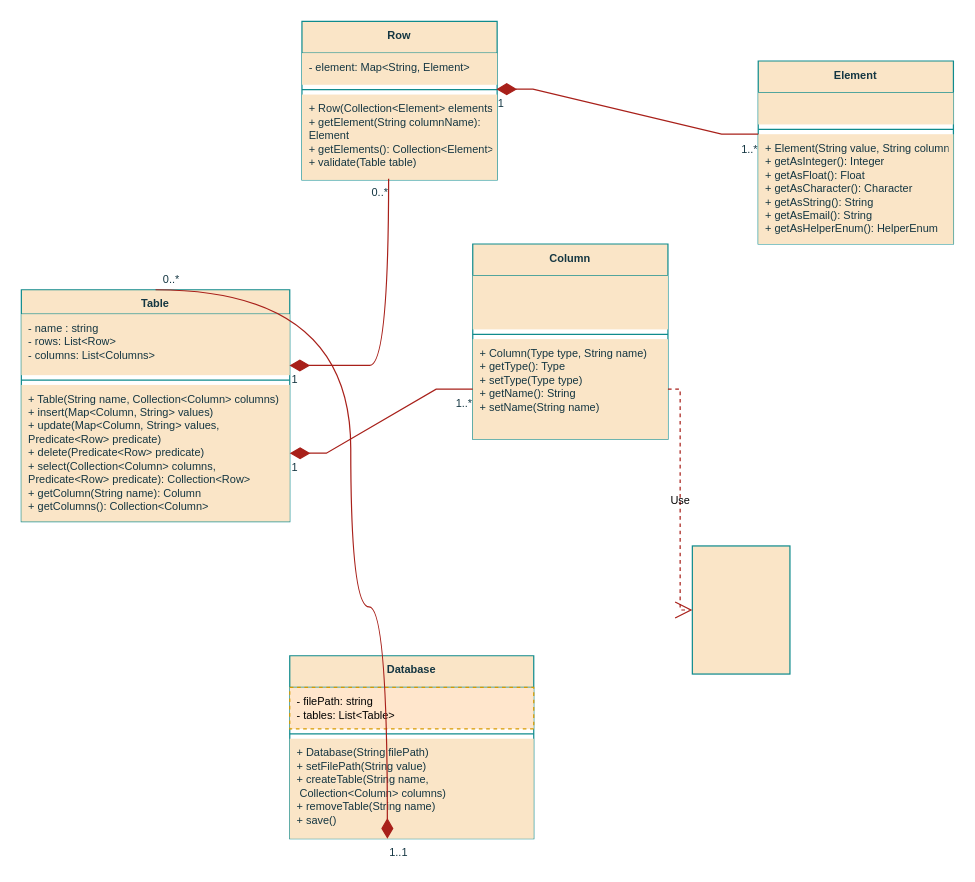
This 975x882 diagram has some shape labels left out. The shapes that lost their labels are listed below. From the top down, each one's box as (x1, y1, x2, y2) in pixels, then its label:
(758, 92, 953, 124): - value: String - column: String
(472, 275, 667, 329): + Type: enum - type: Type - name: String
(691, 545, 790, 674): <<enumeration>> Type INT FLOAT CHAR STR DATE DATELNVL
